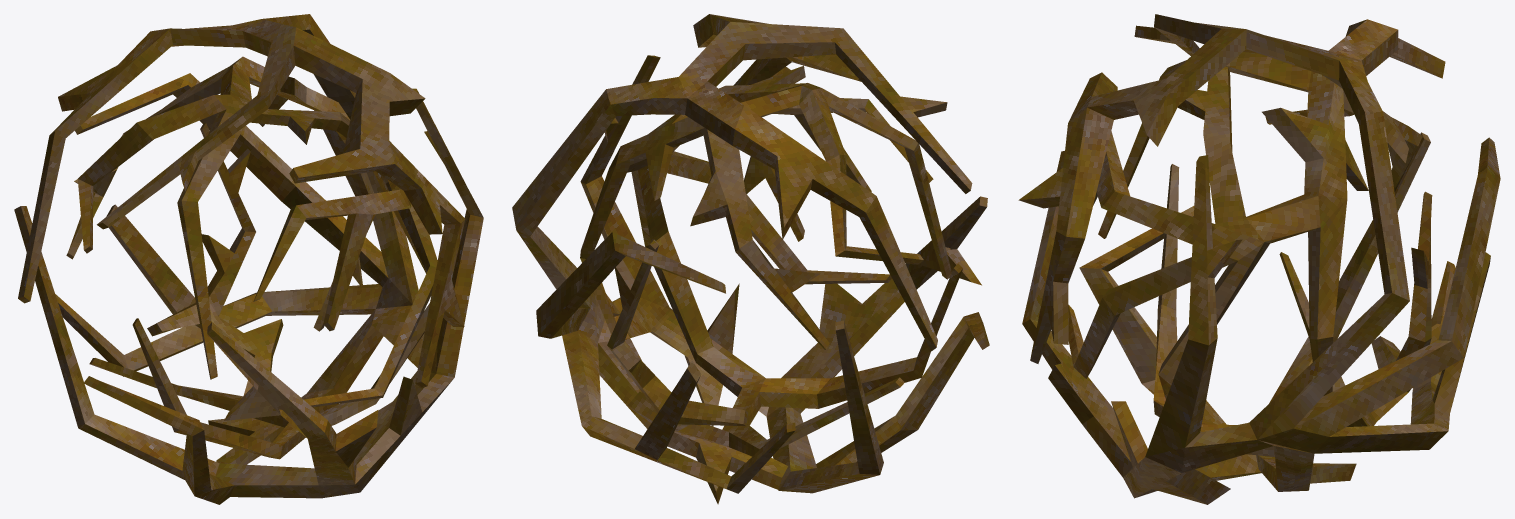
The model's file is Tumbleweed.fbx.
3 renders of one model, left to right at view 1: azimuth 30°, elevation 25°; view 2: azimuth 150°, elevation 25°; view 3: azimuth 270°, elevation 25°, orthographic. The views are drawn at different scales.
Visible parts, largest first — view 1: Tumbleweed; view 2: Tumbleweed; view 3: Tumbleweed.
Part boxes in pixels (left/top/right/bottom): Tumbleweed: left=14, top=14, right=483, bottom=504; Tumbleweed: left=512, top=14, right=989, bottom=504; Tumbleweed: left=1018, top=14, right=1500, bottom=504.
Bounding box in the file's own units: 60.45 × 63.61 × 57.39.
1 material, 1 textured.
